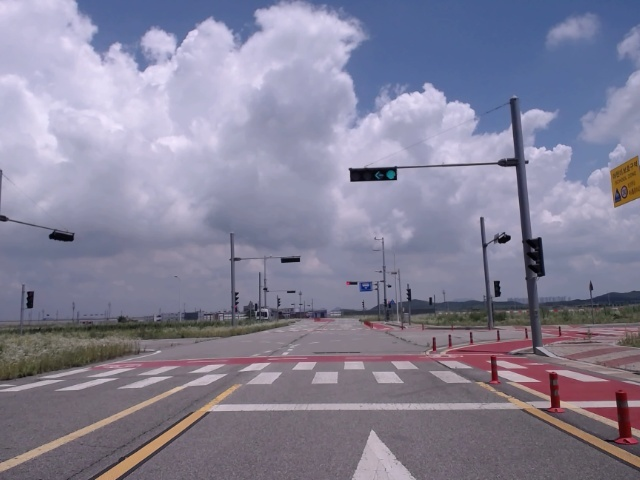all_green_4: (351, 167, 399, 180)
